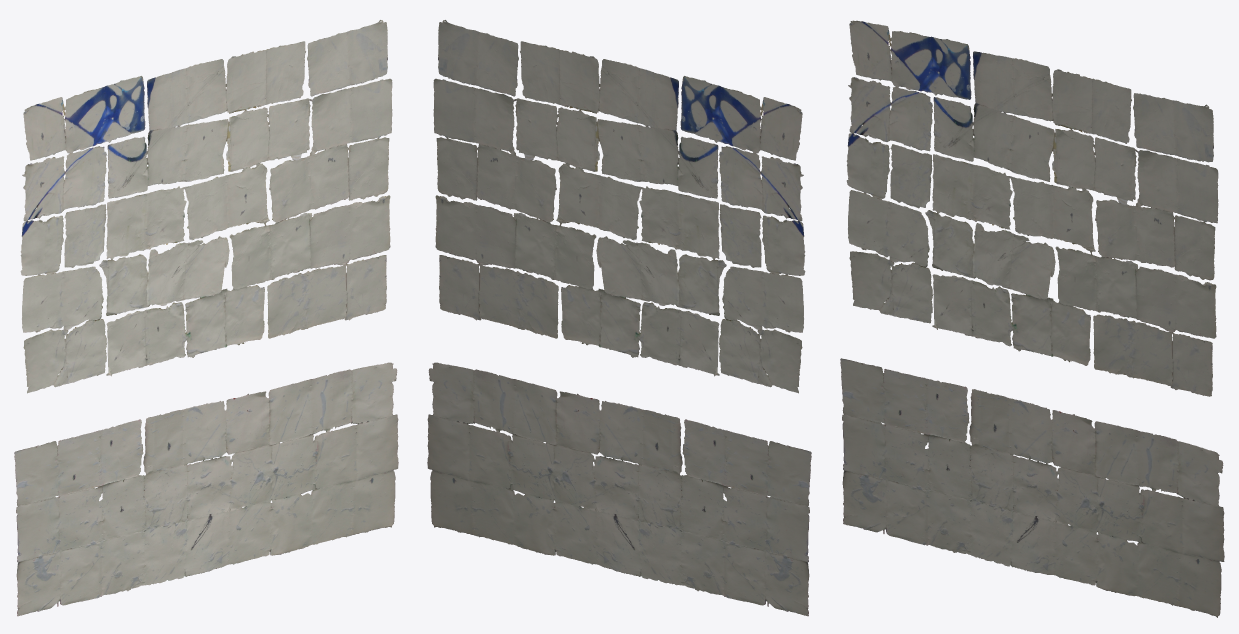
Rendered from parkjisu_set.glb.
3 views of the same model, side by side, from view 1: azimuth 30°, elevation 25°; view 2: azimuth 150°, elevation 25°; view 3: azimuth 330°, elevation 25° (orthographic).
Parts seen in each view (by area): view 1: parkjisu_top, parkjisu_bottom; view 2: parkjisu_top, parkjisu_bottom; view 3: parkjisu_top, parkjisu_bottom.
Boxes of the visible parts, bbox=[...] form: parkjisu_top: bbox=[20, 20, 392, 393]; parkjisu_bottom: bbox=[14, 362, 398, 616]; parkjisu_top: bbox=[433, 20, 805, 393]; parkjisu_bottom: bbox=[427, 362, 811, 616]; parkjisu_top: bbox=[846, 20, 1218, 396]; parkjisu_bottom: bbox=[840, 358, 1224, 617].
Size of the model in its own units: 1.18 by 1.51 by 0.
Materials: 2 (2 with a texture image).
